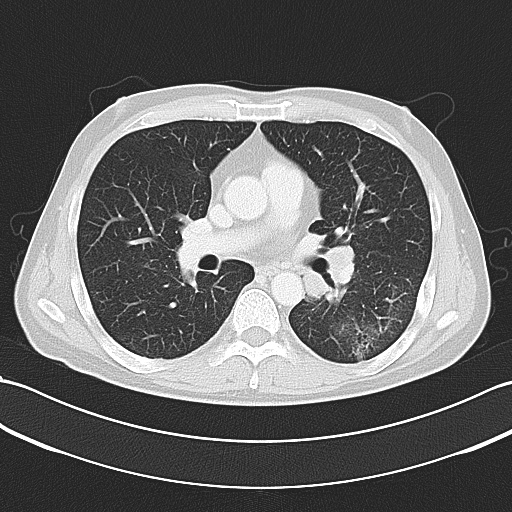Copy of cancer: (319, 236, 376, 312)
cancer: (286, 230, 343, 306)
